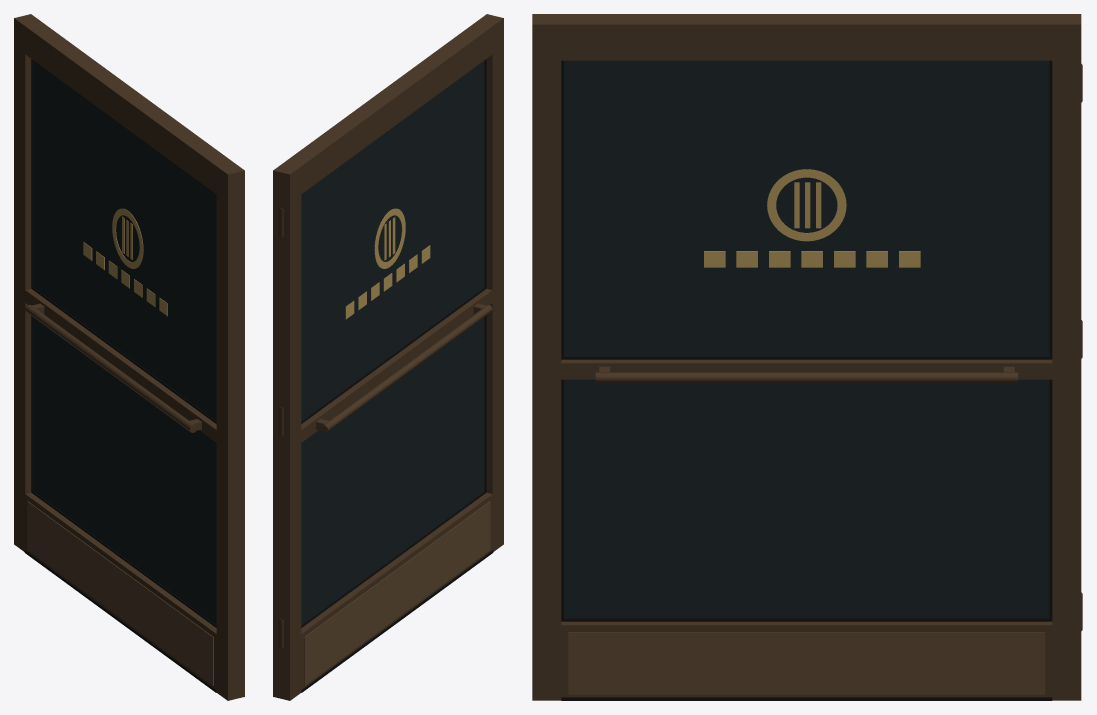
The model's file is SM_80s_EntranceDoor.glb.
3 renders of one model, left to right at view 1: azimuth 30°, elevation 25°; view 2: azimuth 150°, elevation 25°; view 3: azimuth 270°, elevation 25°, orthographic. The views are drawn at different scales.
Visible parts, largest first — view 1: SM_80s_EntranceDoor; view 2: SM_80s_EntranceDoor; view 3: SM_80s_EntranceDoor.
Part boxes in pixels (bbox=[...]): SM_80s_EntranceDoor: bbox=[14, 14, 244, 700]; SM_80s_EntranceDoor: bbox=[273, 14, 503, 700]; SM_80s_EntranceDoor: bbox=[532, 14, 1082, 700].
Size of the model in its own units: 0.359 by 4.13 by 3.05.
